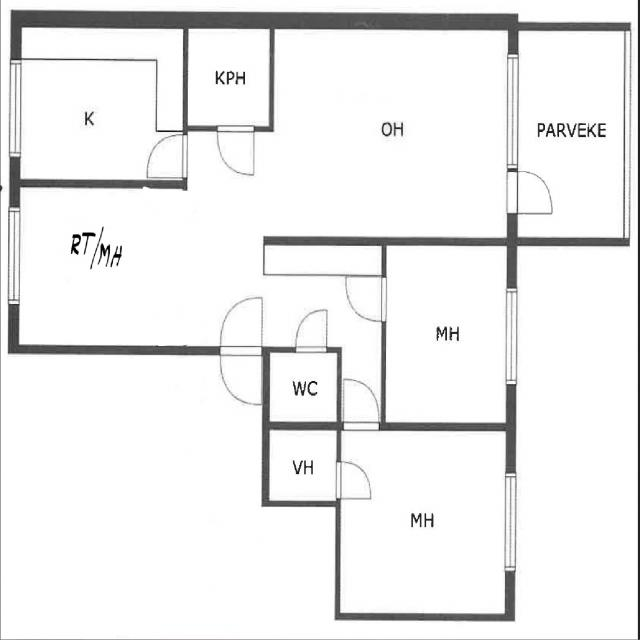door: (220, 344, 259, 400), (220, 297, 259, 353), (506, 170, 555, 213), (343, 379, 379, 432), (218, 124, 254, 174), (345, 278, 386, 321), (149, 135, 187, 174), (336, 462, 371, 498), (297, 308, 326, 349)
